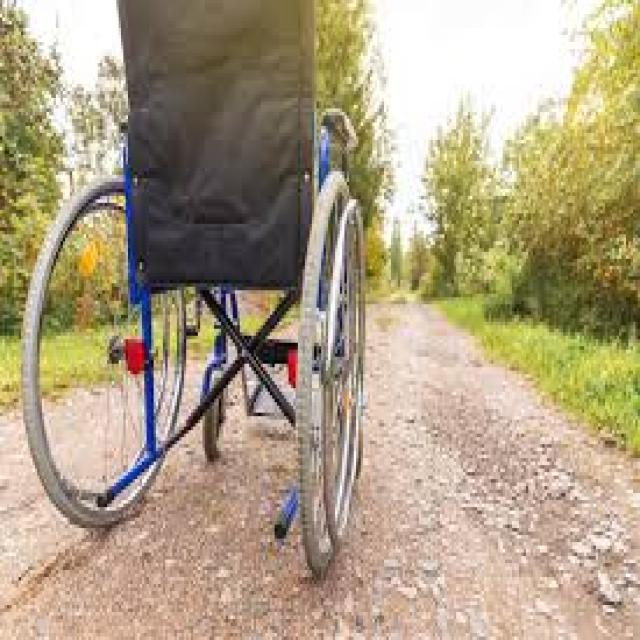wheelchairs: (23, 14, 382, 584)
